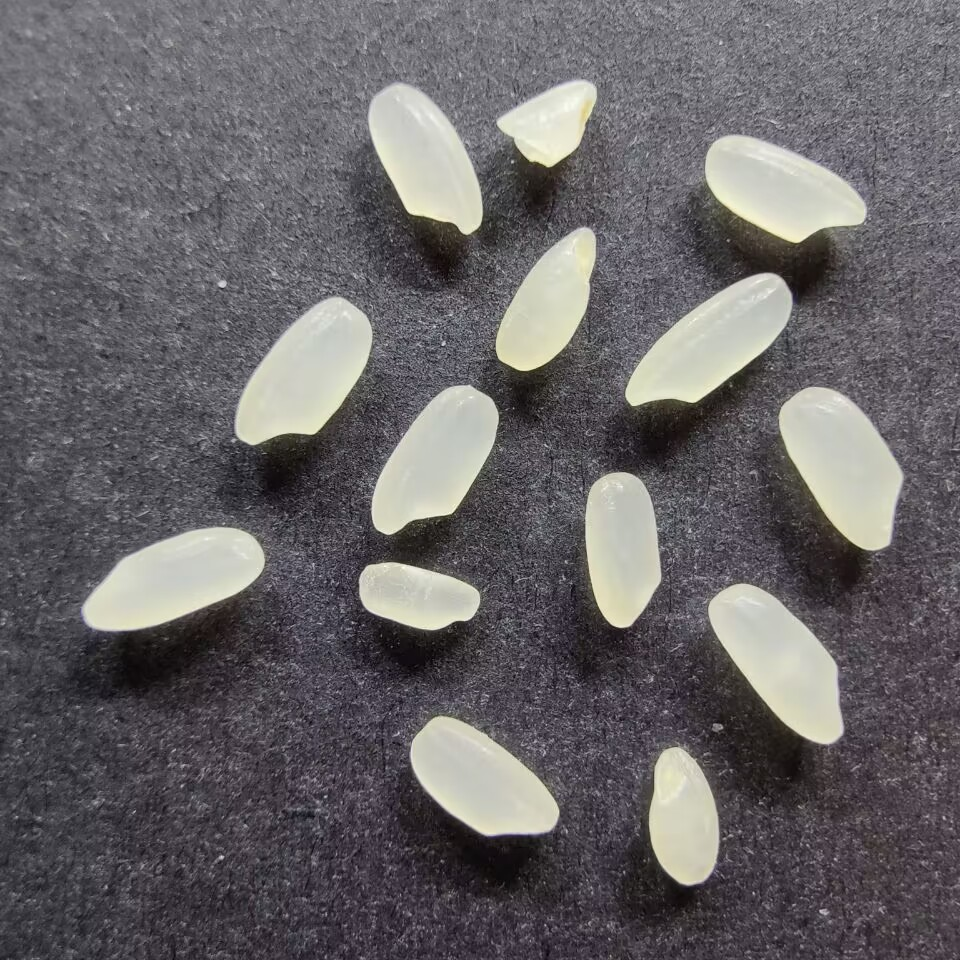broken: (494, 76, 600, 170), (356, 559, 482, 633)
rice: (623, 273, 793, 410), (706, 581, 846, 746), (233, 294, 373, 445), (777, 385, 904, 551), (369, 383, 500, 537), (80, 526, 266, 634), (408, 712, 561, 838), (366, 82, 485, 236), (702, 133, 867, 244), (494, 226, 598, 372), (584, 471, 661, 629), (646, 744, 723, 889)
